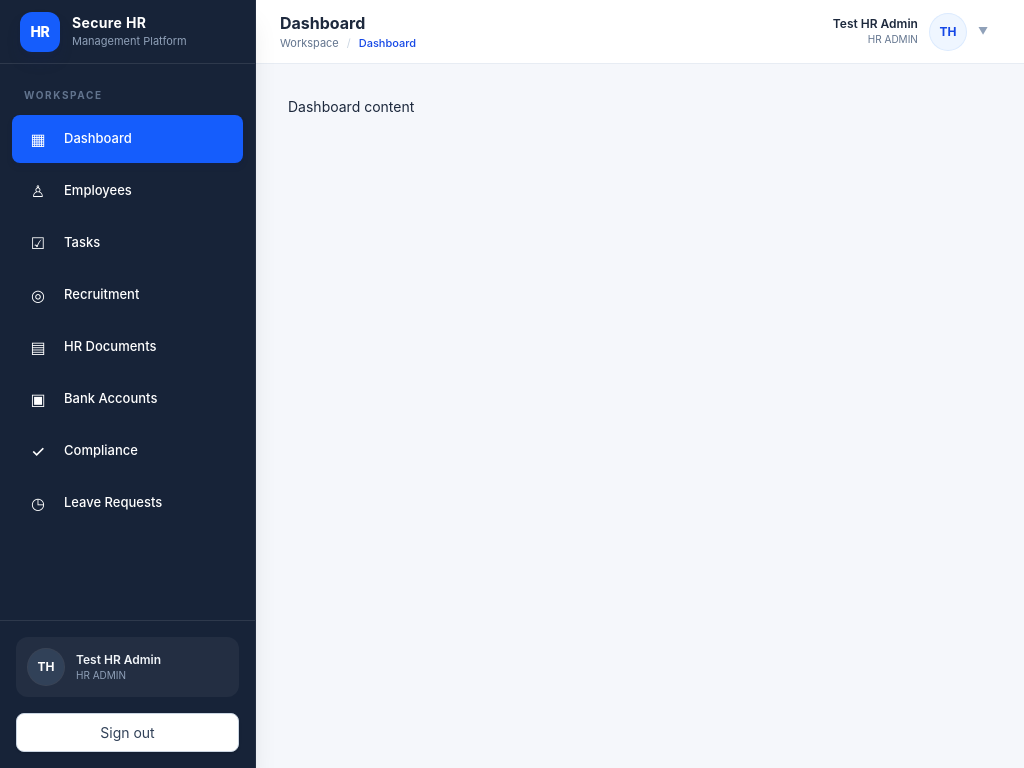
Test: AppLayout › navigates to the Compliance page when clicking the navigation link
What coordinates should you click on to do the following:
click the link "✓ Compliance"
I would click on:
 (84, 451)
Its box is [31,441,138,461].
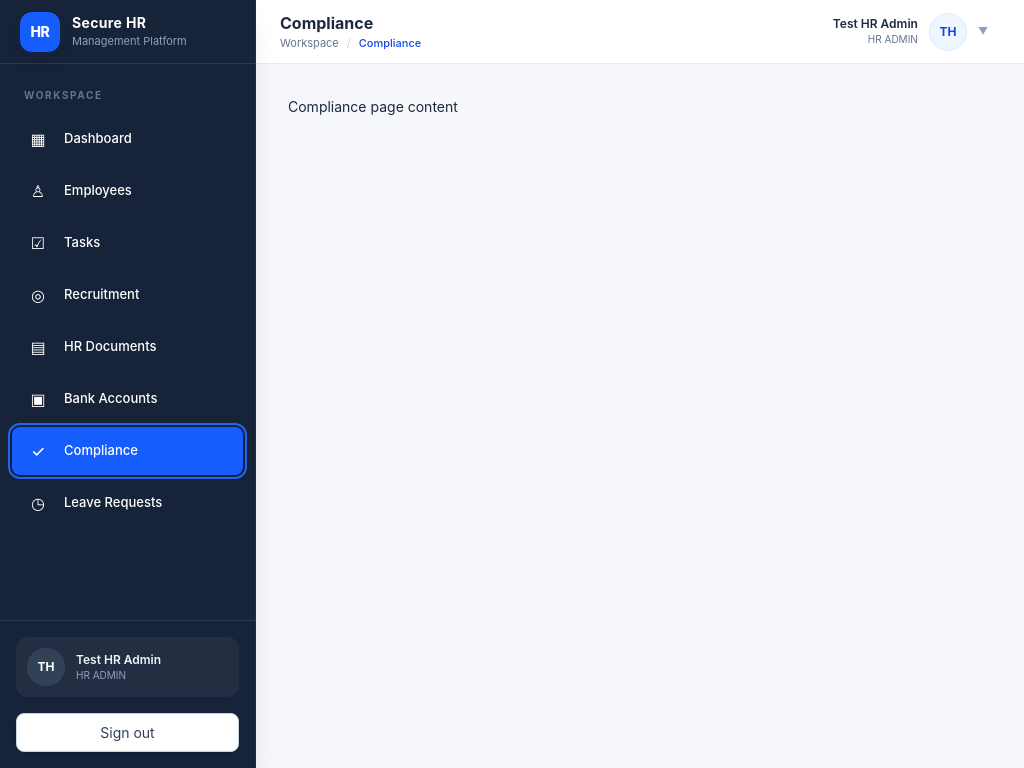
Now the text "Compliance page content" is shown, box [288,98,458,115]
